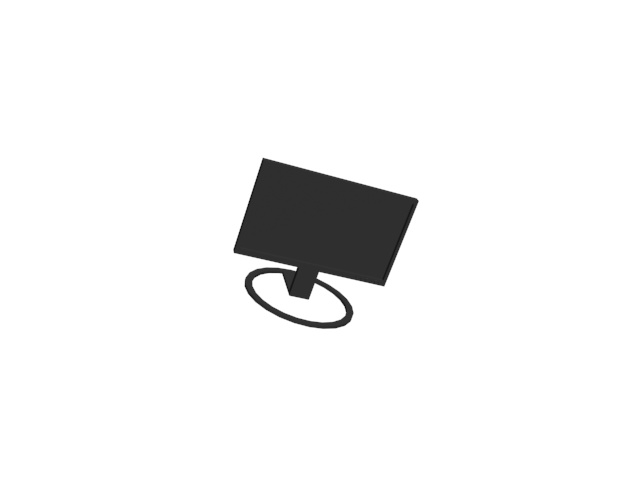monitor: (233, 153, 424, 336)
